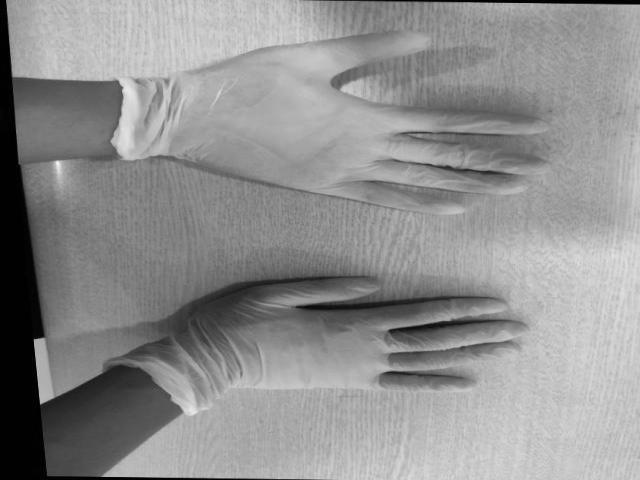gloved: (181, 26, 544, 216), (202, 278, 525, 394)
